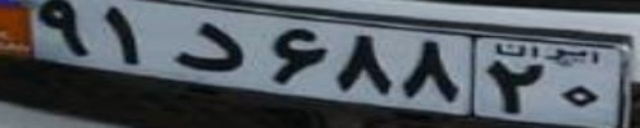0: (556, 84, 602, 108)
1: (102, 6, 141, 65)
2: (484, 60, 546, 114)
6: (267, 27, 327, 84)
8: (401, 40, 456, 102), (336, 34, 391, 94)
9: (35, 0, 89, 58)
dal: (171, 20, 244, 71)
